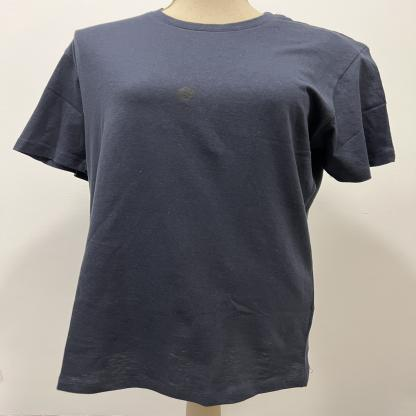stain: (175, 85, 199, 103)
